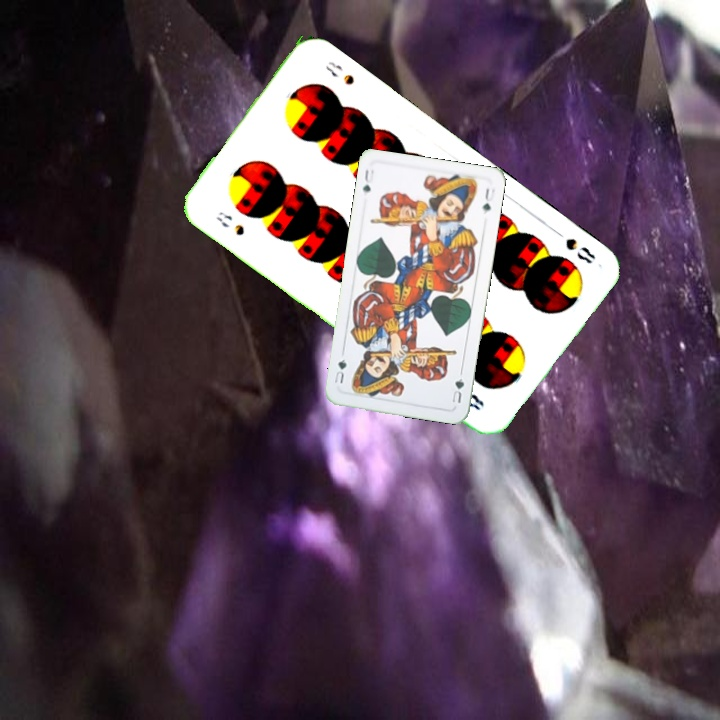GU: (448, 374, 467, 407), (358, 166, 377, 195)
S8: (549, 225, 598, 267), (212, 207, 247, 239)
